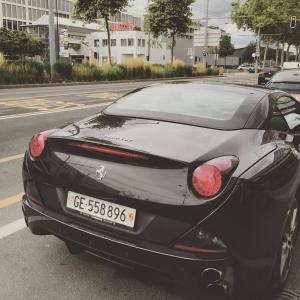Vehicle-registration-plate: (66, 191, 138, 233)
